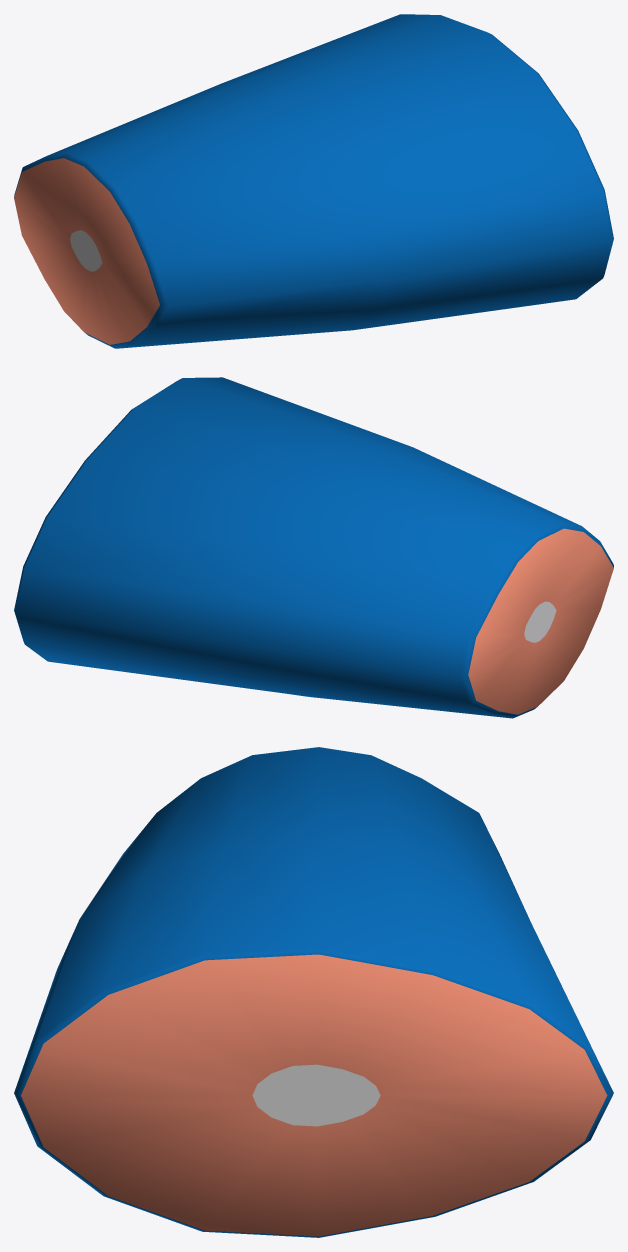
The model's file is Fish_03.3.fbx.
The picture shows the model from 3 angles, top to bottom: view 1: azimuth 30°, elevation 25°; view 2: azimuth 150°, elevation 25°; view 3: azimuth 270°, elevation 25°; orthographic projection. The views are drawn at different scales.
Parts seen in each view (by area): view 1: Fish_03.3; view 2: Fish_03.3; view 3: Fish_03.3.
Boxes of the visible parts, x1,y1,x2,y2 form: Fish_03.3: (14, 14, 613, 348); Fish_03.3: (14, 377, 613, 718); Fish_03.3: (14, 747, 613, 1237).
Size of the model in its own units: 101 by 105 by 55.67.
